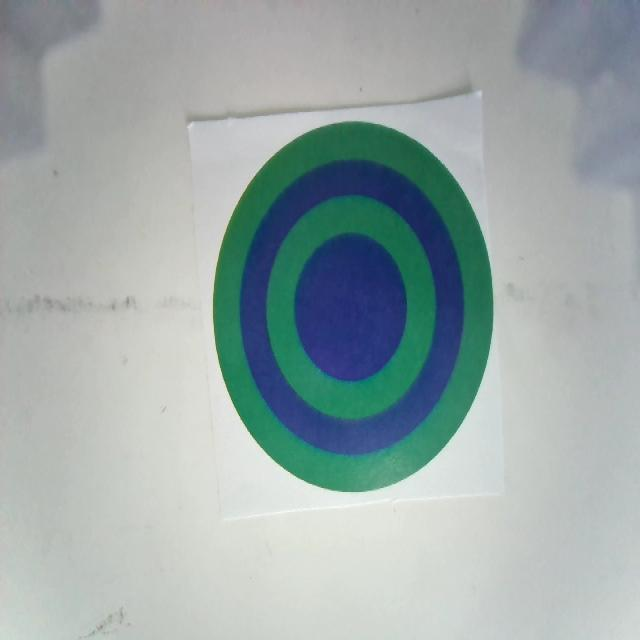cogn: (214, 119, 494, 496)
